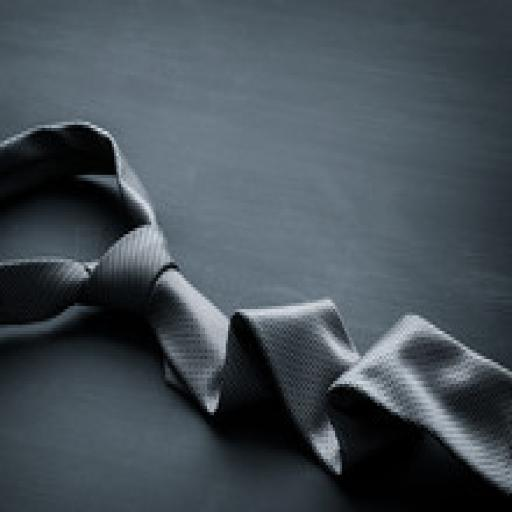tie: (0, 119, 510, 509)
